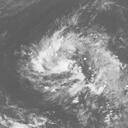cyclone: (24, 29, 121, 98)
